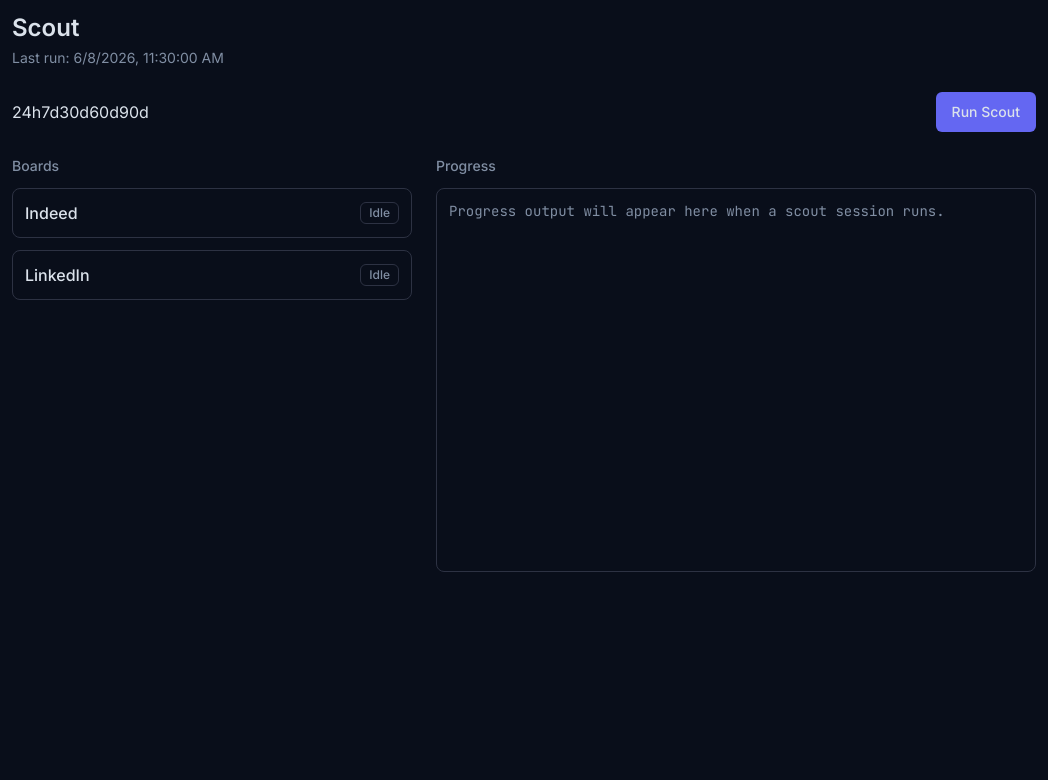
Test: ScoutScreen › shows error result from scraper:run resolve
The width and height of the screenshot is (1048, 780).
Expected: the heading "Scout" is shown, x1=12 y1=13 x2=79 y2=42
Click the button "Run Scout": [986, 112] box x1=936 y1=92 x2=1036 y2=132
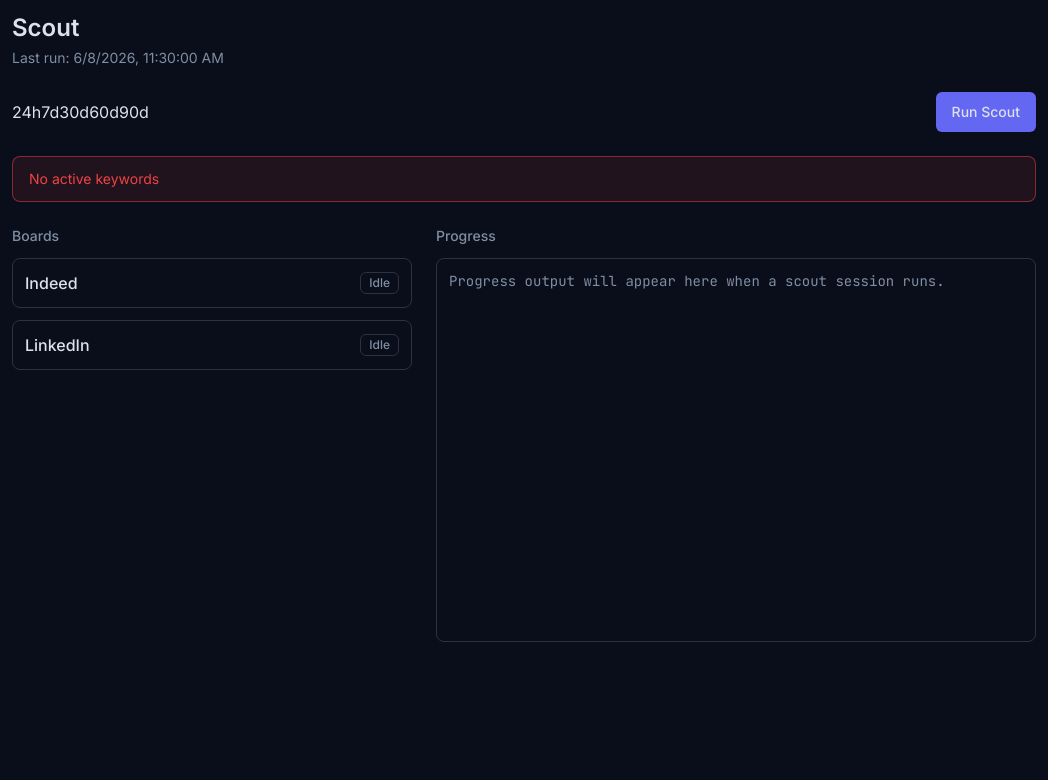
Now the message reads "No active keywords", box x1=29 y1=170 x2=159 y2=187
